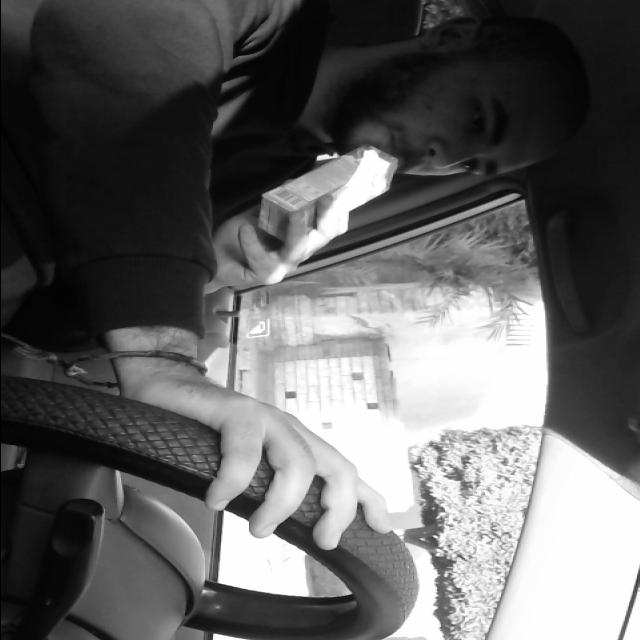drinking: (253, 138, 407, 245)
